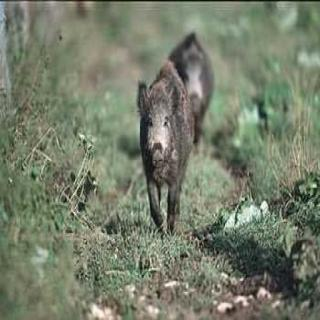Pig: (106, 36, 205, 214)
